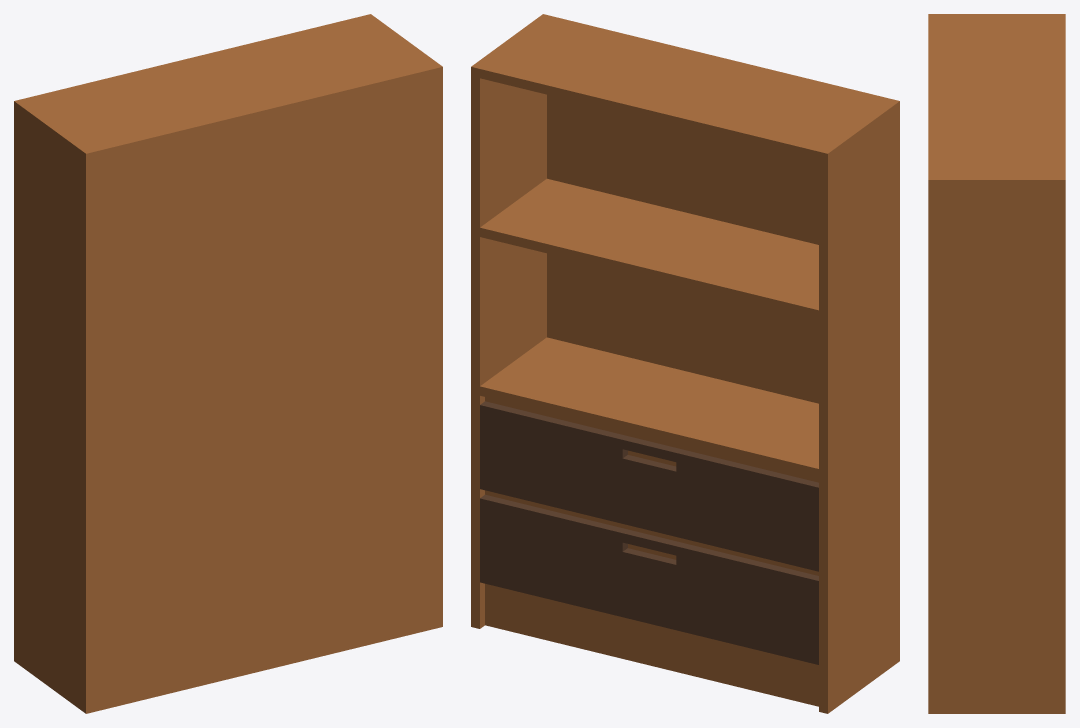
The model's file is shelves_05.glb.
The picture shows the model from 3 angles, left to right: view 1: azimuth 30°, elevation 25°; view 2: azimuth 150°, elevation 25°; view 3: azimuth 270°, elevation 25°; orthographic projection. The views are drawn at different scales.
Parts seen in each view (by area): view 1: Untitled; view 2: Untitled; view 3: Untitled.
Part boxes in pixels (bbox=[...]): Untitled: bbox=[14, 14, 442, 713]; Untitled: bbox=[471, 14, 899, 713]; Untitled: bbox=[928, 14, 1065, 713].
Bounding box in the file's own units: 1.2 × 1.8 × 0.42.
1 material, 1 textured.
